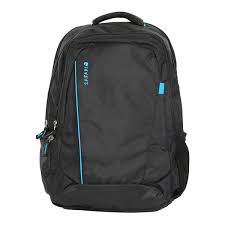backpack: (36, 10, 190, 212)
